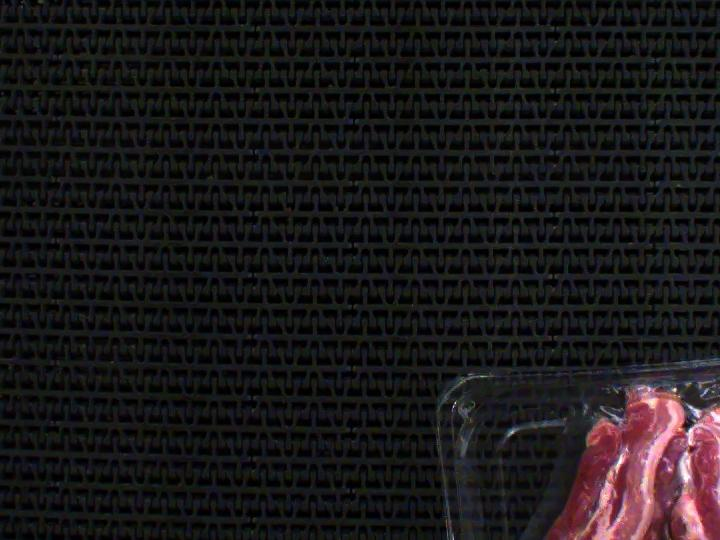unsealed: (507, 355, 720, 540)
